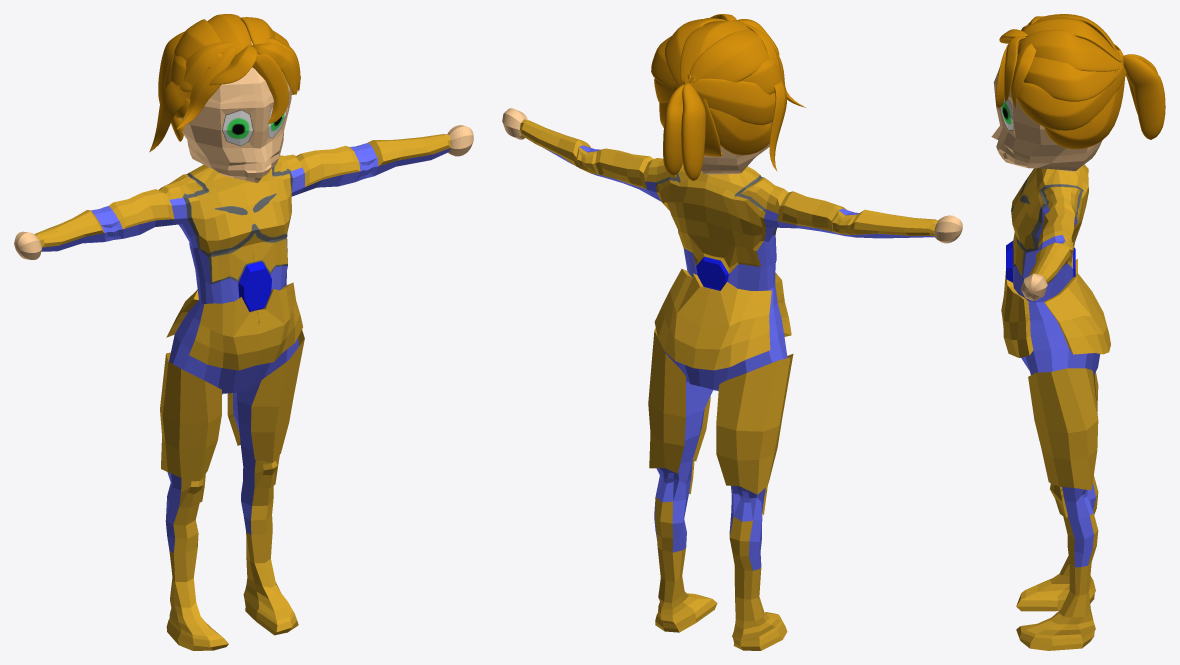
Rendered from ApenasGuerreiro.fbx.
3 renders of one model, left to right at view 1: azimuth 30°, elevation 25°; view 2: azimuth 150°, elevation 25°; view 3: azimuth 270°, elevation 25°, orthographic.
Parts seen in each view (by area): view 1: Cube.007, Cube.011, Cube.002, BezierCurve.005, Cube.004, BezierCurve.001, BezierCurve.004, BezierCurve.007, BezierCurve.006, BezierCurve.002, BezierCurve.003; view 2: Cube.007, Cube.011, BezierCurve.007, BezierCurve.009, BezierCurve.020, BezierCurve.016, BezierCurve.006, BezierCurve.010, Cube.004, BezierCurve.005, BezierCurve.011, Cube.002 (+3 smaller); view 3: Cube.007, Cube.011, Cube.002, BezierCurve.013, BezierCurve.012, BezierCurve.011, BezierCurve.010, BezierCurve.014, BezierCurve.006, BezierCurve.026, BezierCurve.002, Cube.004 (+2 smaller).
Boxes of the visible parts, left/top/right/bottom form: Cube.007: left=34, top=134, right=450, bottom=650; Cube.011: left=41, top=143, right=450, bottom=552; Cube.002: left=180, top=41, right=291, bottom=182; BezierCurve.005: left=149, top=42, right=234, bottom=152; Cube.004: left=14, top=125, right=473, bottom=259; BezierCurve.001: left=252, top=53, right=289, bottom=123; BezierCurve.004: left=176, top=48, right=234, bottom=129; BezierCurve.007: left=174, top=19, right=221, bottom=68; BezierCurve.006: left=207, top=14, right=251, bottom=55; BezierCurve.002: left=251, top=43, right=298, bottom=94; BezierCurve.003: left=209, top=45, right=257, bottom=85; Cube.007: left=520, top=119, right=937, bottom=650; Cube.011: left=545, top=145, right=934, bottom=570; BezierCurve.007: left=690, top=29, right=768, bottom=82; BezierCurve.009: left=691, top=78, right=775, bottom=125; BezierCurve.020: left=681, top=83, right=705, bottom=180; BezierCurve.016: left=709, top=107, right=771, bottom=155; BezierCurve.006: left=680, top=20, right=749, bottom=83; BezierCurve.010: left=663, top=84, right=685, bottom=175; Cube.004: left=502, top=108, right=962, bottom=243; BezierCurve.005: left=745, top=24, right=786, bottom=171; BezierCurve.011: left=665, top=18, right=726, bottom=85; Cube.002: left=701, top=122, right=772, bottom=174; Cube.007: left=1001, top=164, right=1110, bottom=650; Cube.011: left=1006, top=205, right=1100, bottom=567; Cube.002: left=991, top=40, right=1101, bottom=171; BezierCurve.013: left=1016, top=57, right=1126, bottom=130; BezierCurve.012: left=1023, top=49, right=1122, bottom=101; BezierCurve.011: left=1017, top=29, right=1123, bottom=71; BezierCurve.010: left=1123, top=56, right=1165, bottom=139; BezierCurve.014: left=1044, top=51, right=1124, bottom=149; BezierCurve.006: left=1022, top=17, right=1121, bottom=62; BezierCurve.026: left=1011, top=43, right=1036, bottom=107; BezierCurve.002: left=1004, top=36, right=1025, bottom=101; Cube.004: left=1021, top=273, right=1047, bottom=300.
Size of the model in its own units: 595 by 756 by 198.
